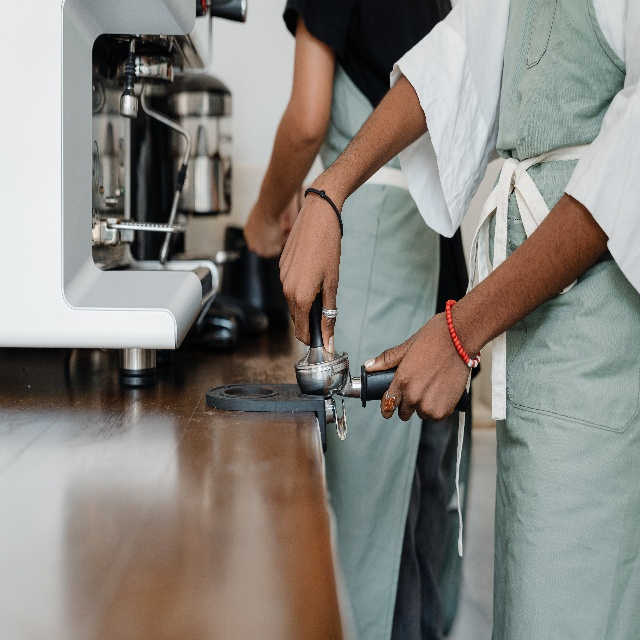Sin_guantes: (364, 305, 473, 425), (279, 181, 349, 354), (244, 194, 281, 255)
